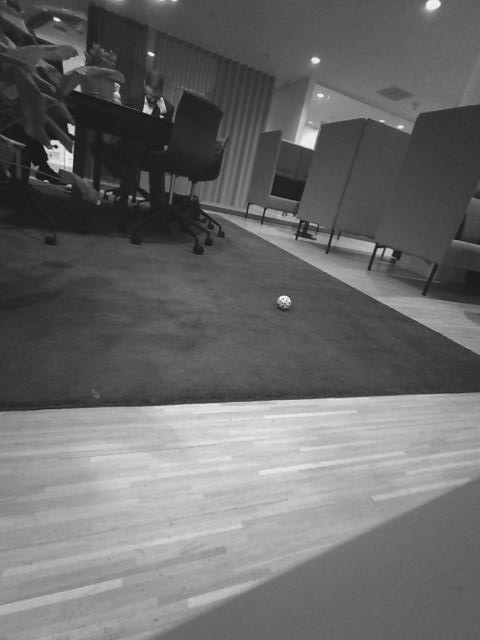dogtoy: (269, 288, 297, 316)
